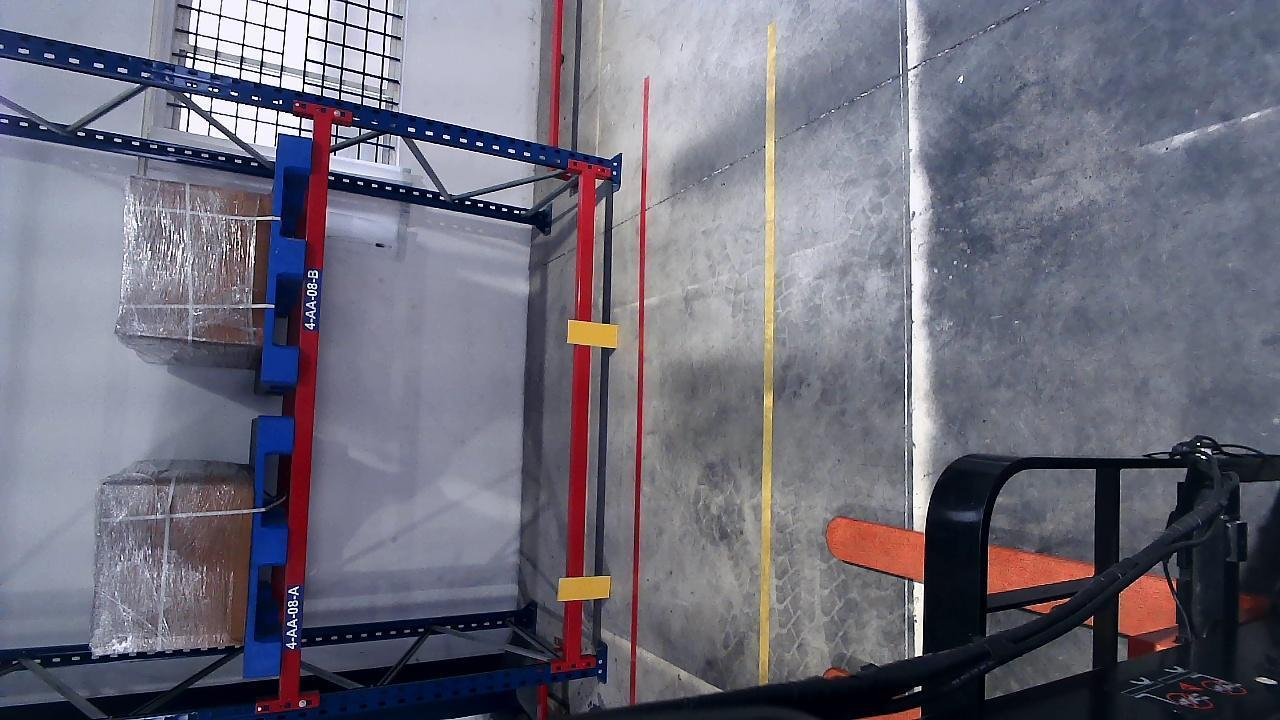red_line: (628, 74, 650, 705)
yellow_line: (758, 23, 774, 683)
